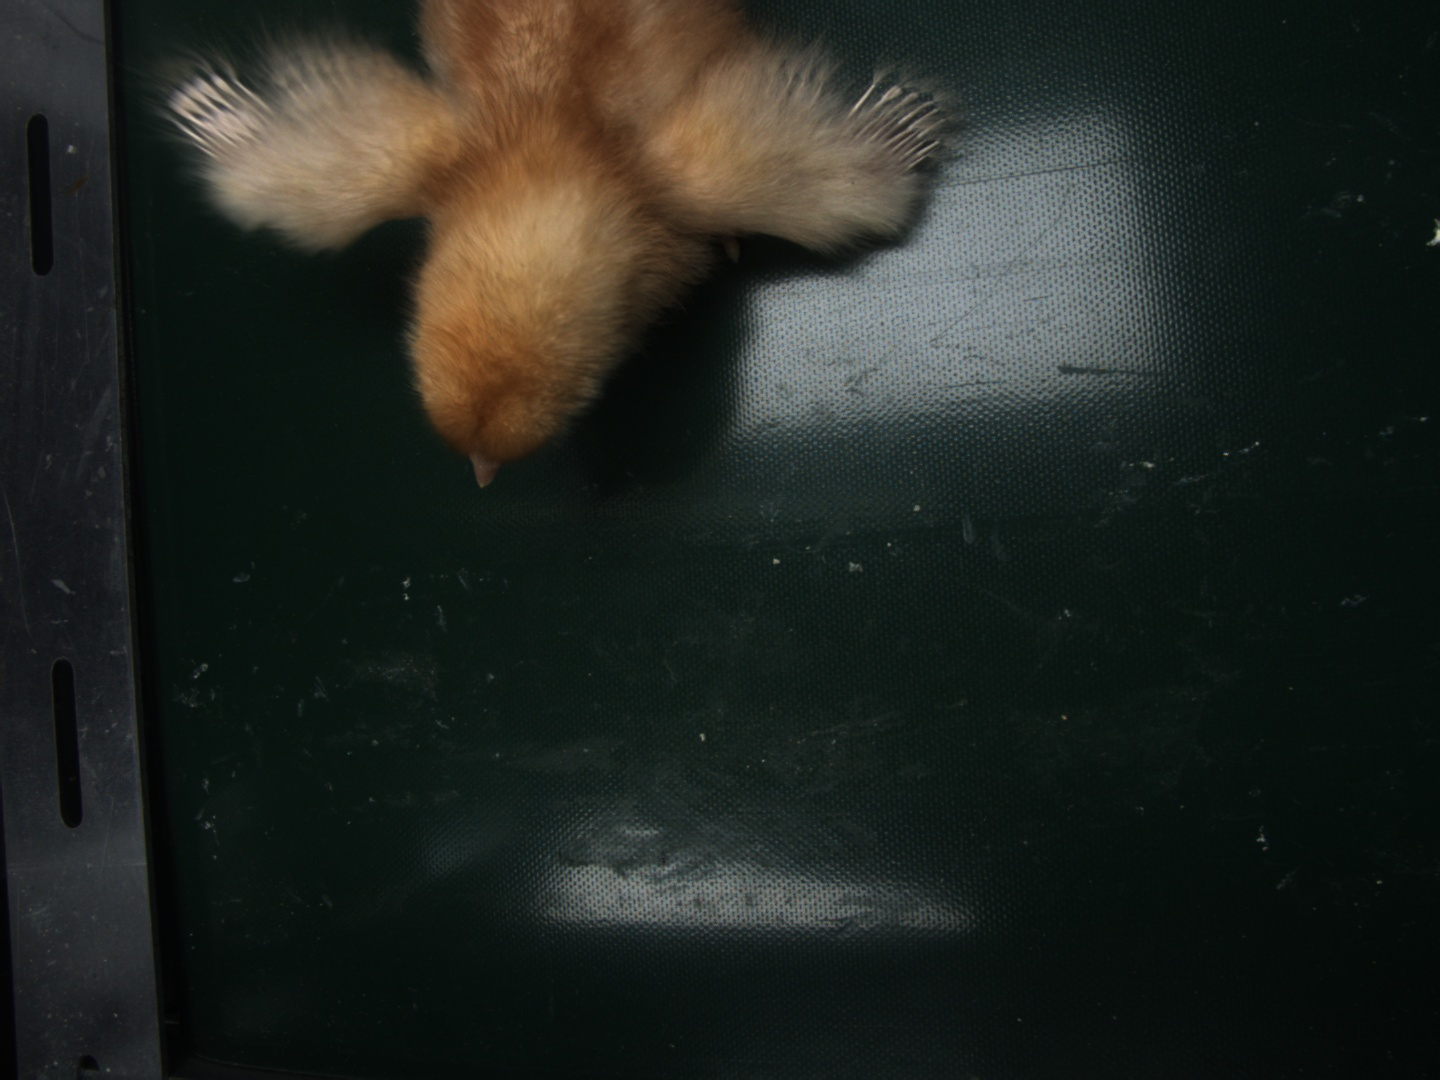female: (169, 73, 276, 163), (844, 85, 946, 174)
